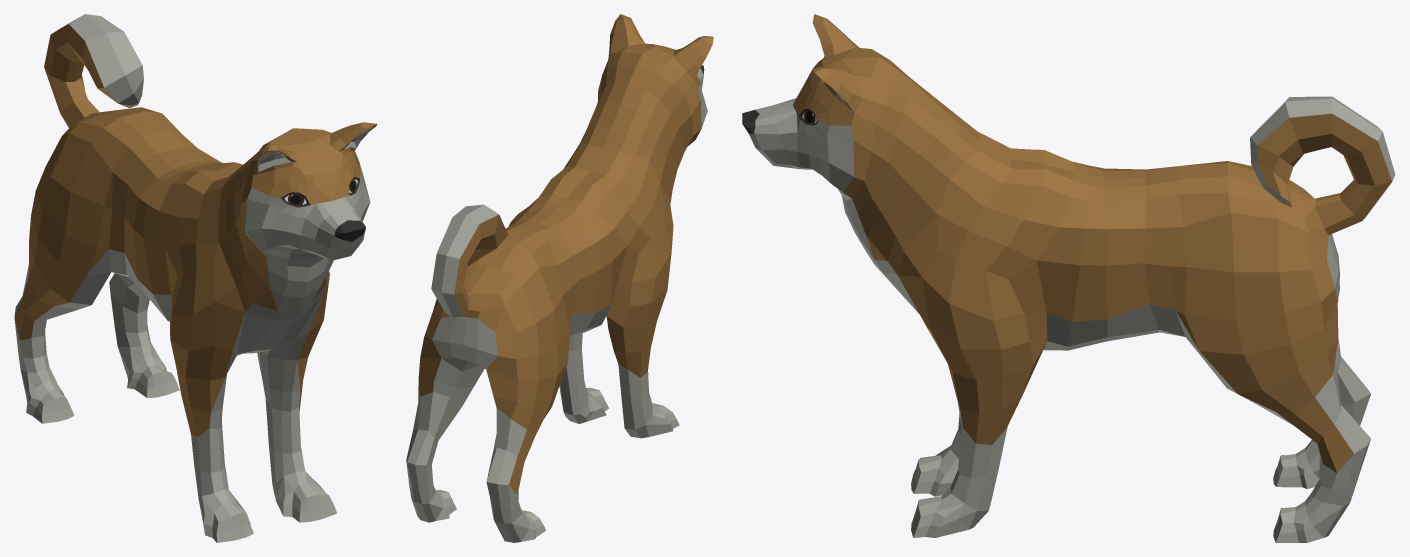
The model's file is dog.glb.
3 views of the same model, side by side, from view 1: azimuth 30°, elevation 25°; view 2: azimuth 150°, elevation 25°; view 3: azimuth 270°, elevation 25° (orthographic). The views are drawn at different scales.
Parts seen in each view (by area): view 1: ShibaInu; view 2: ShibaInu; view 3: ShibaInu.
Part boxes in pixels (<box>): ShibaInu: <box>14,14,377,542</box>; ShibaInu: <box>406,14,713,542</box>; ShibaInu: <box>742,14,1395,542</box>.
Size of the model in its own units: 0.1838 by 0.5311 by 0.6775.
